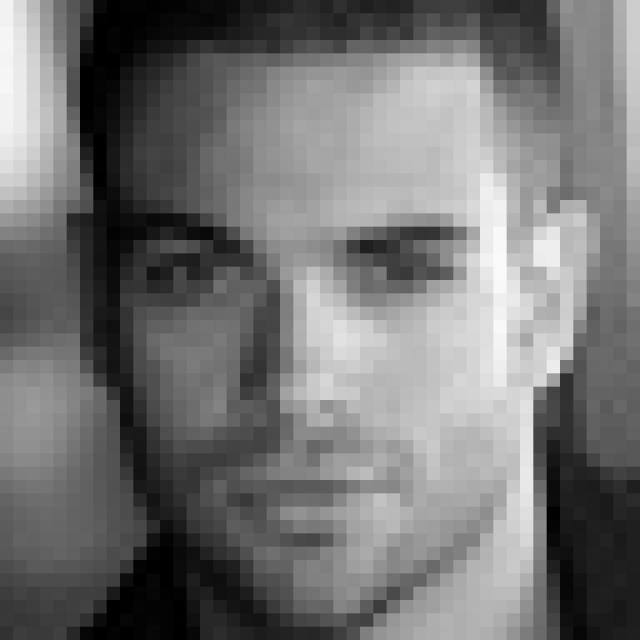neutral: (131, 200, 494, 563)
